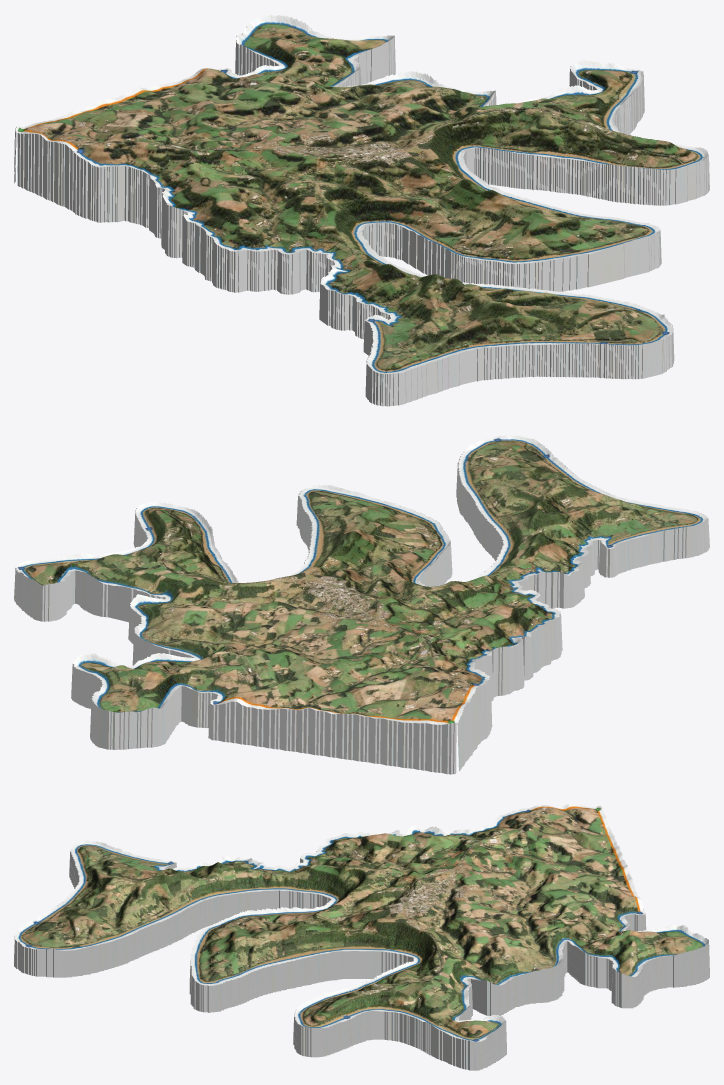
3 renders of one model, top to bottom at view 1: azimuth 30°, elevation 25°; view 2: azimuth 150°, elevation 25°; view 3: azimuth 270°, elevation 25°, orthographic. The views are drawn at different scales.
Bounding box in the file's own units: 1 × 0.1111 × 1.34.
Materials: 1 (1 with a texture image).
